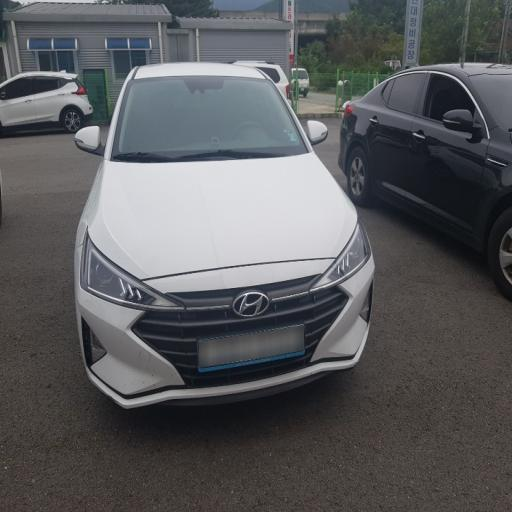normal: (73, 42, 389, 437)
